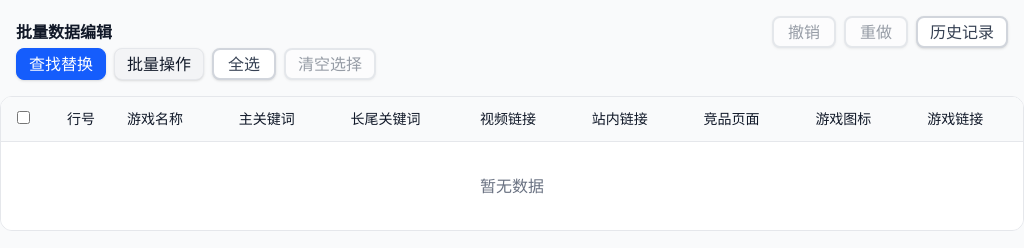
Test: BatchDataEditor › 行选择功能 › 应该支持清空选择
The image size is (1024, 248).
Click the button "全选" at {"x": 244, "y": 64}, box top-left (212, 48), bottom-right (276, 80)
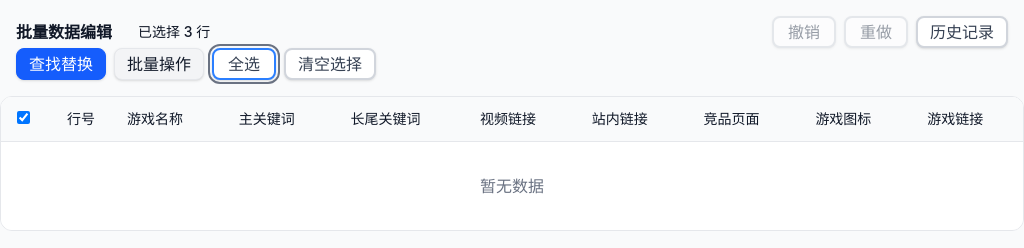
Click the button "清空选择" at {"x": 330, "y": 64}, box top-left (284, 48), bottom-right (376, 80)
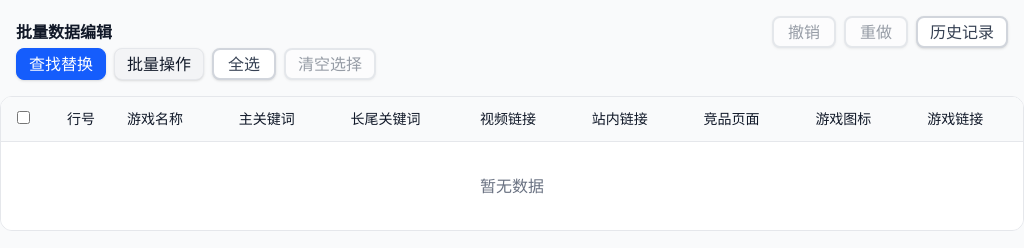
Expected: the text "已选择" is gone
